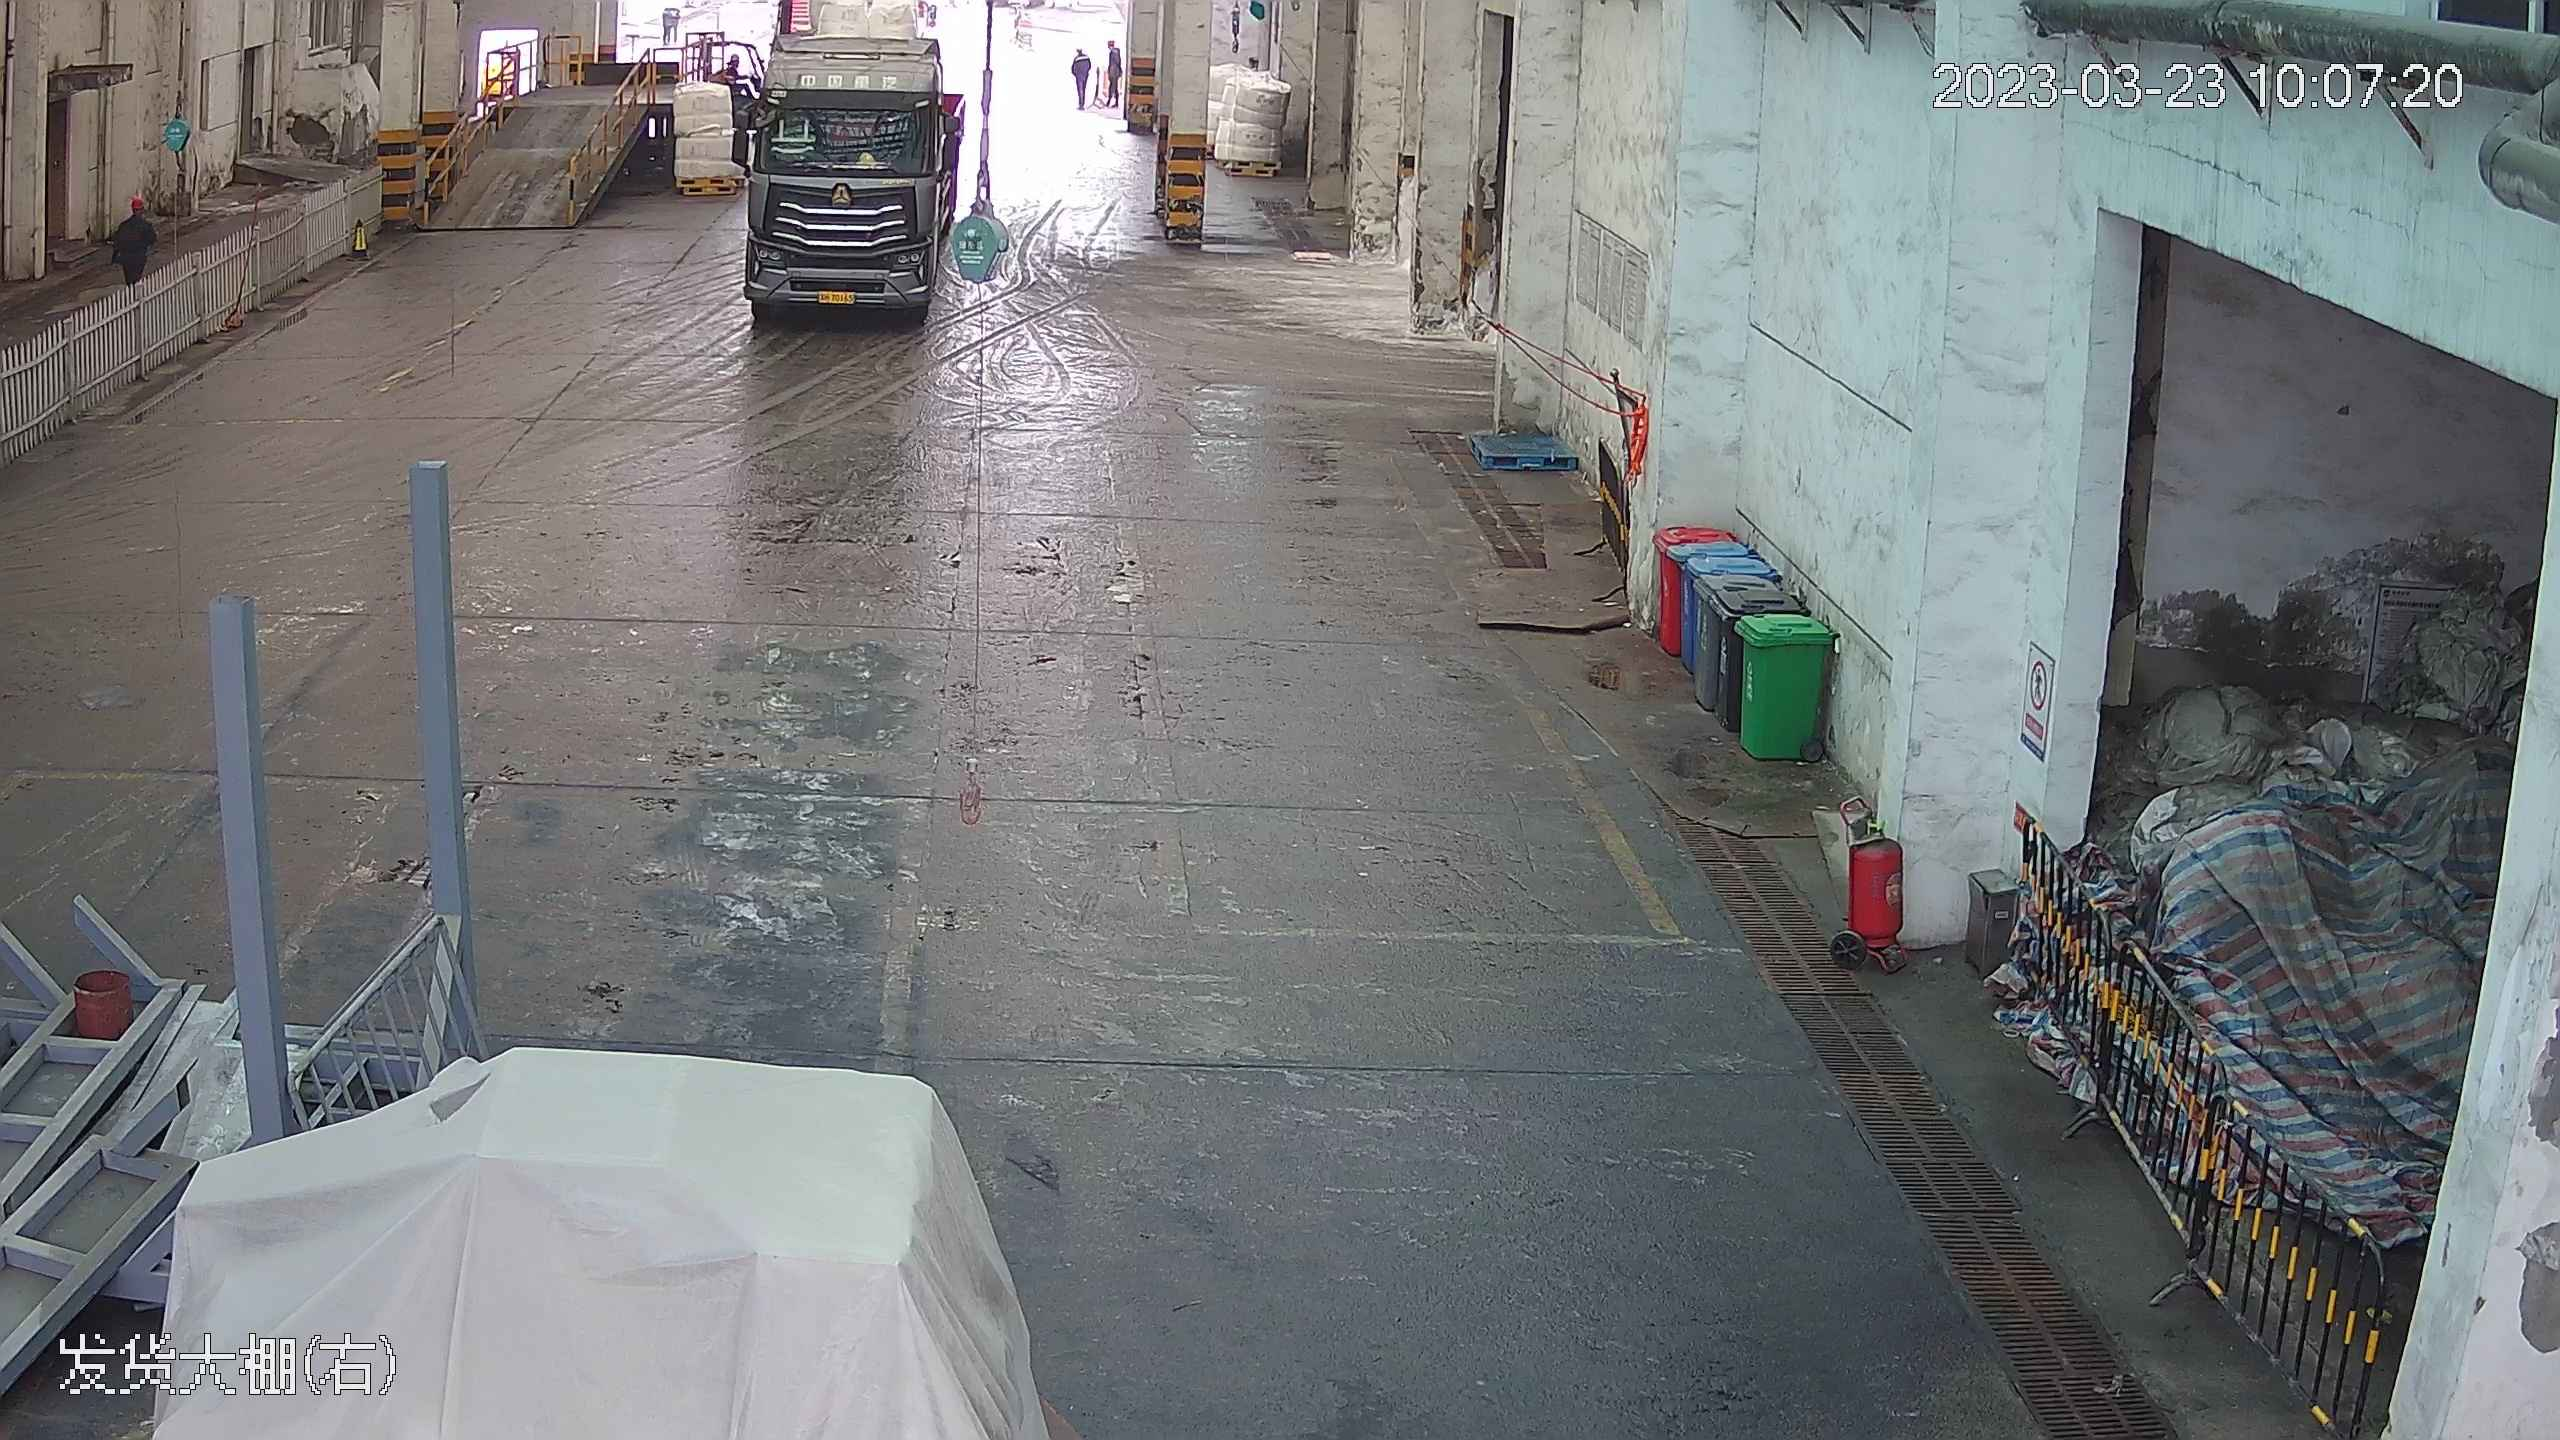head: (115, 192, 153, 236)
helmet: (122, 191, 145, 213)
people: (106, 190, 156, 312)
truck: (724, 5, 985, 333)
